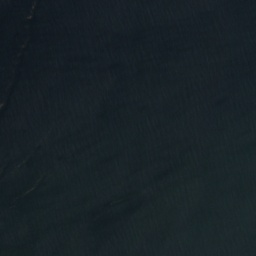Marine Debris: (26, 0, 38, 21)
